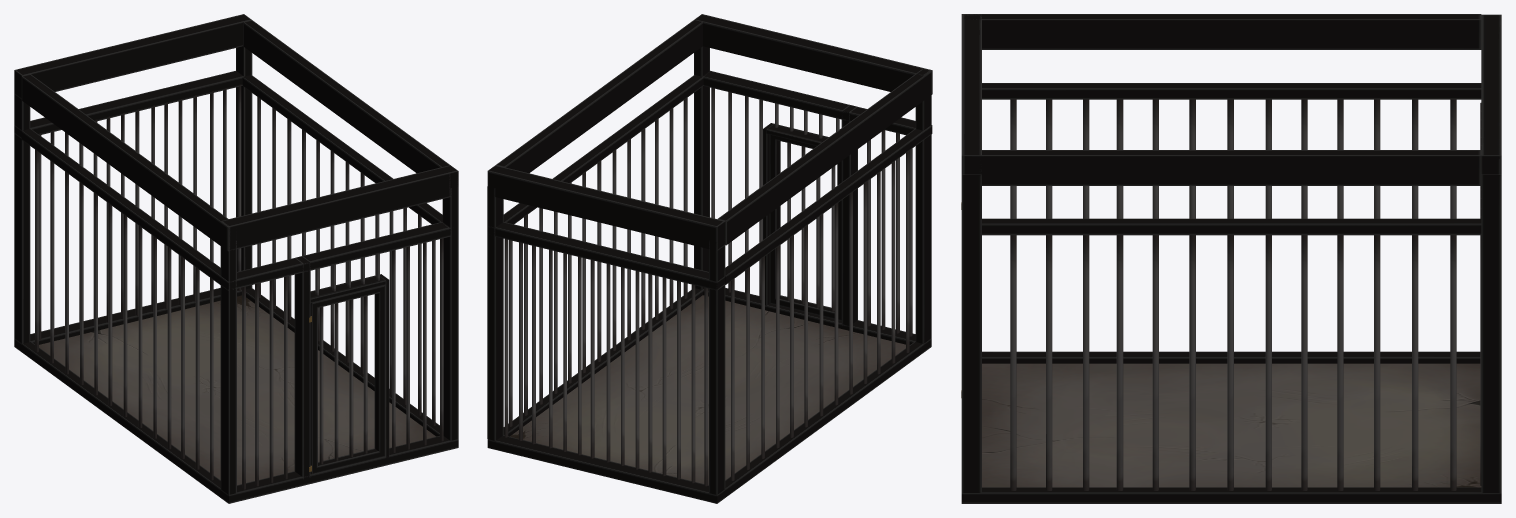
File: Anteater Cage.fbx
The picture shows the model from 3 angles, left to right: view 1: azimuth 30°, elevation 25°; view 2: azimuth 150°, elevation 25°; view 3: azimuth 270°, elevation 25°; orthographic projection. The views are drawn at different scales.
Parts seen in each view (by area): view 1: CageFloor, Cage_Pole4, Cage_Pole14, Cage_Pole15, Cage_Pole16, CageDoorFrame, Cage_Pole1, Cage_Pole12, Cage_Pole3, Cage_Pole8, Cage_Pole5, Cage_Pole17 (+55 smaller); view 2: CageFloor, Cage_Pole14, Cage_Pole15, Cage_Pole4, Cage_Pole16, Cage_Pole12, Cage_Pole13, Cage_Pole1, Cage_Pole10, Cage_Pole11, Cage_Pole8, Cage_Pole6 (+59 smaller); view 3: CageFloor, Cage_Pole16, Cage_Pole15, Cage_Pole9, Cage_Pole8, Cage_Pole7, Cage_Pole13, Cage_Pole3, Cage_Pole6, Cage_Pole14, Cage_Pole4, CageBar45 (+13 smaller).
Part boxes in pixels (<box>): CageFloor: <box>39,295,435,484</box>; Cage_Pole4: <box>221,165,458,249</box>; Cage_Pole14: <box>14,14,251,99</box>; Cage_Pole15: <box>21,74,236,251</box>; Cage_Pole16: <box>243,20,458,196</box>; CageDoorFrame: <box>310,285,385,474</box>; Cage_Pole1: <box>220,240,236,494</box>; Cage_Pole12: <box>14,94,30,343</box>; Cage_Pole3: <box>442,186,458,440</box>; Cage_Pole8: <box>21,128,236,290</box>; Cage_Pole5: <box>230,222,450,289</box>; Cage_Pole17: <box>294,256,310,479</box>; CageFloor: <box>510,295,905,484</box>; Cage_Pole14: <box>487,165,725,250</box>; Cage_Pole15: <box>717,68,932,245</box>; Cage_Pole4: <box>694,14,931,91</box>; Cage_Pole16: <box>496,20,702,173</box>; Cage_Pole12: <box>709,240,725,494</box>; Cage_Pole13: <box>487,186,503,440</box>; Cage_Pole1: <box>915,95,931,343</box>; Cage_Pole10: <box>488,222,725,290</box>; Cage_Pole11: <box>487,435,725,503</box>; Cage_Pole8: <box>725,125,932,284</box>; Cage_Pole6: <box>725,342,923,497</box>; CageFloor: <box>982,363,1481,487</box>; Cage_Pole16: <box>961,150,1481,185</box>; Cage_Pole15: <box>961,14,1481,49</box>; Cage_Pole9: <box>982,218,1481,235</box>; Cage_Pole8: <box>982,83,1481,99</box>; Cage_Pole7: <box>961,487,1481,503</box>; Cage_Pole13: <box>1481,174,1501,492</box>; Cage_Pole3: <box>961,174,981,492</box>; Cage_Pole6: <box>982,351,1480,363</box>; Cage_Pole14: <box>1481,14,1501,174</box>; Cage_Pole4: <box>961,14,981,173</box>; CageBar45: <box>1116,235,1123,490</box>.
Size of the model in its own units: 55.31 by 63.45 by 89.18.
